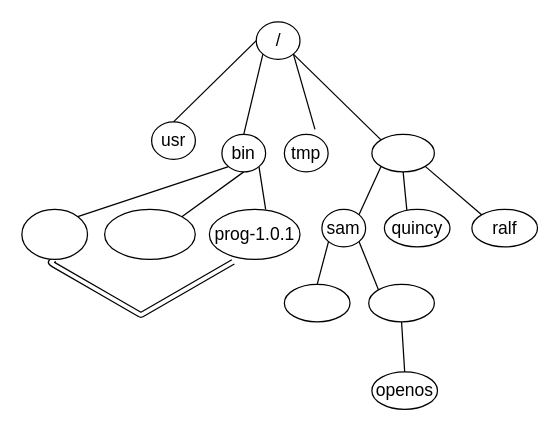
Some shapes in this 560 by 431 pixel diagram are drawn without their labels. Each missing label, with the box of its shape:
.profile: (283, 283, 350, 322)
classes: (368, 283, 434, 322)
home: (371, 133, 434, 172)
prog: (21, 208, 88, 259)
prog-1.0.0: (103, 208, 195, 259)
